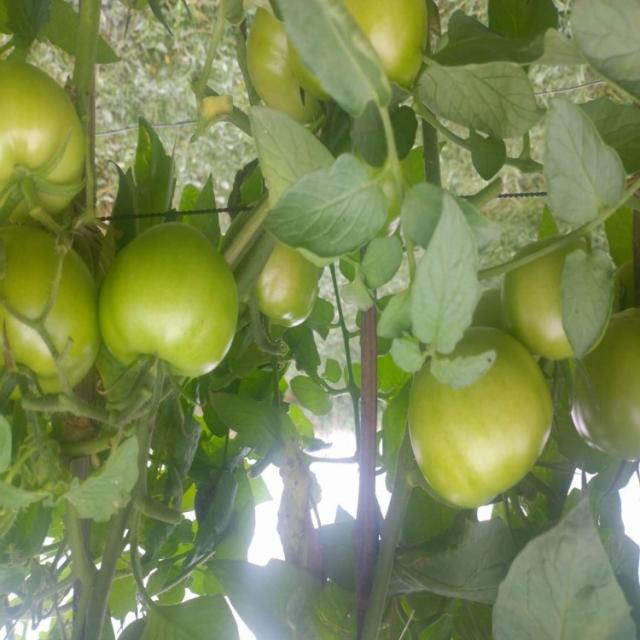tomato: (95, 203, 258, 400), (412, 326, 559, 517), (1, 210, 101, 419), (1, 50, 98, 213), (501, 234, 611, 364), (250, 7, 347, 119), (579, 308, 640, 473), (337, 1, 447, 91), (254, 242, 345, 335)
